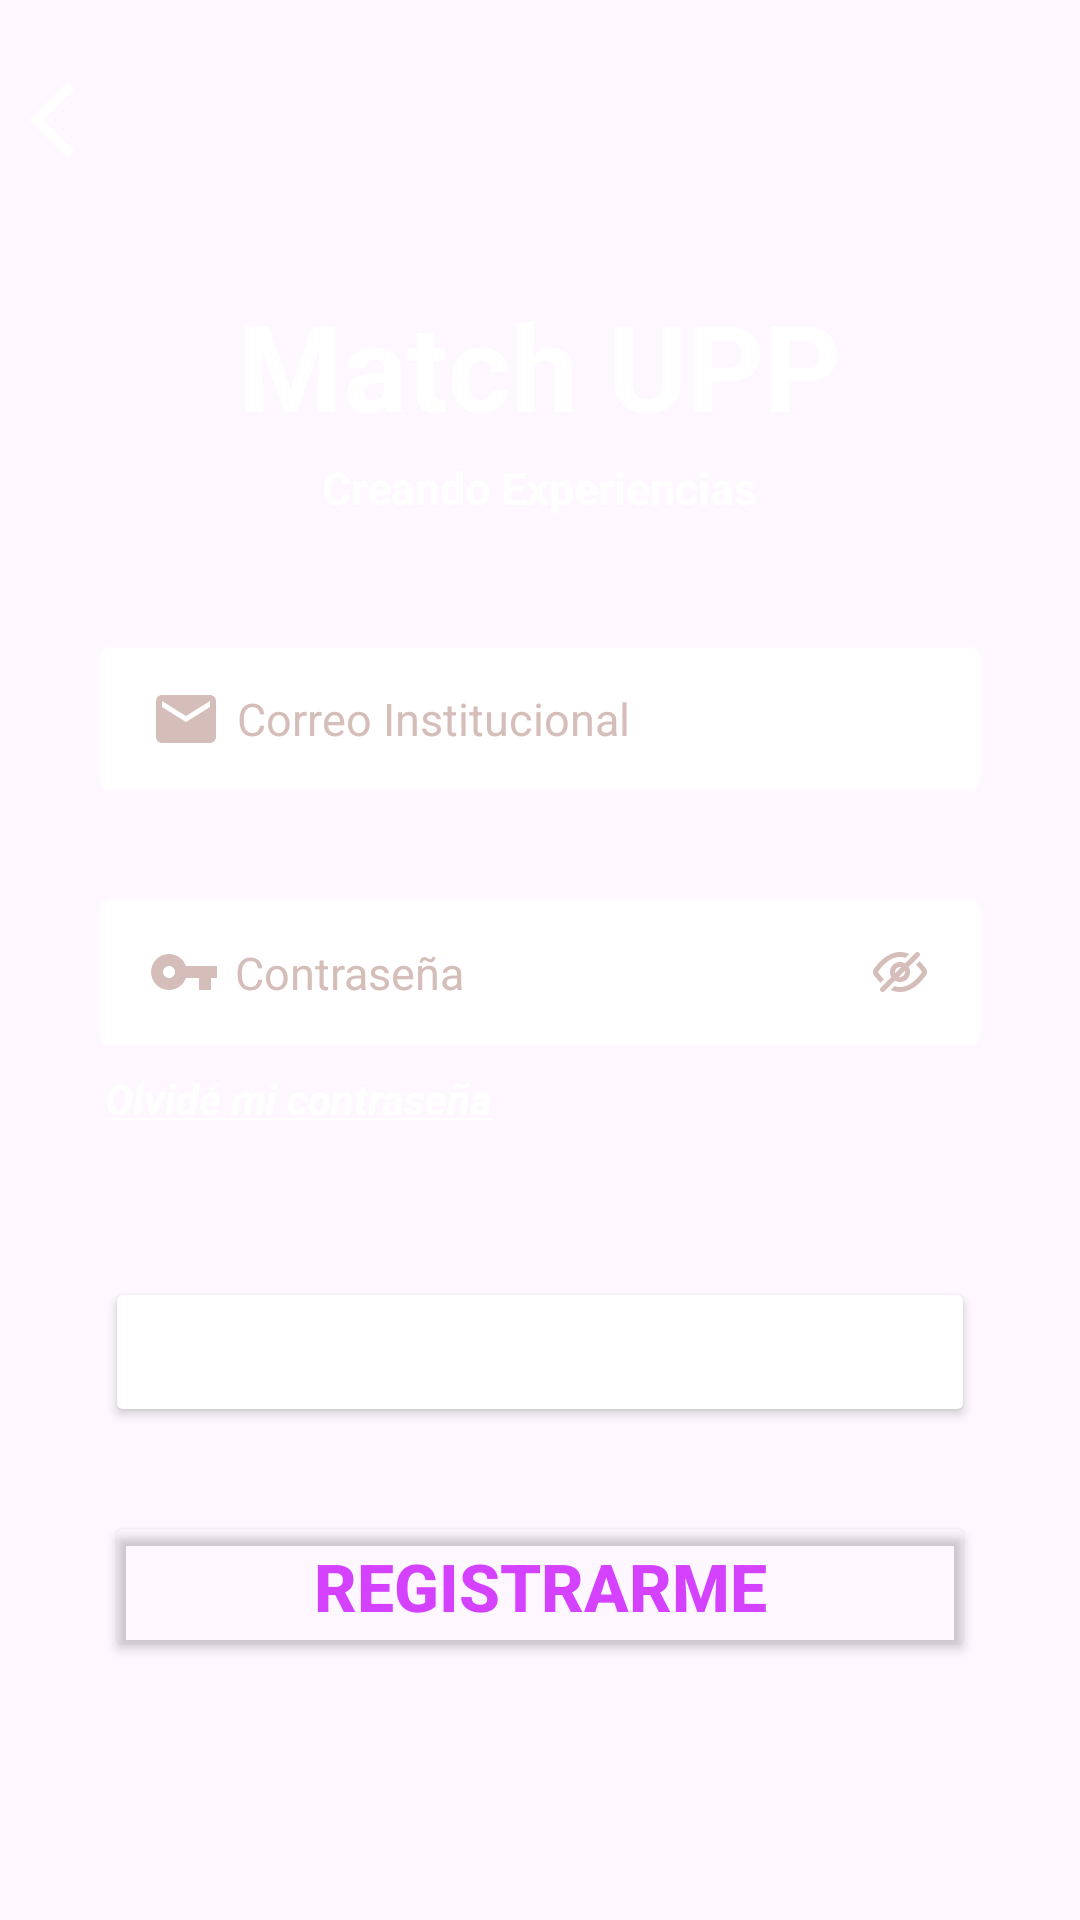

Named icons in this screenshot (1080x1920) and their centers, [x,y]:
eye closed: [900,972]
